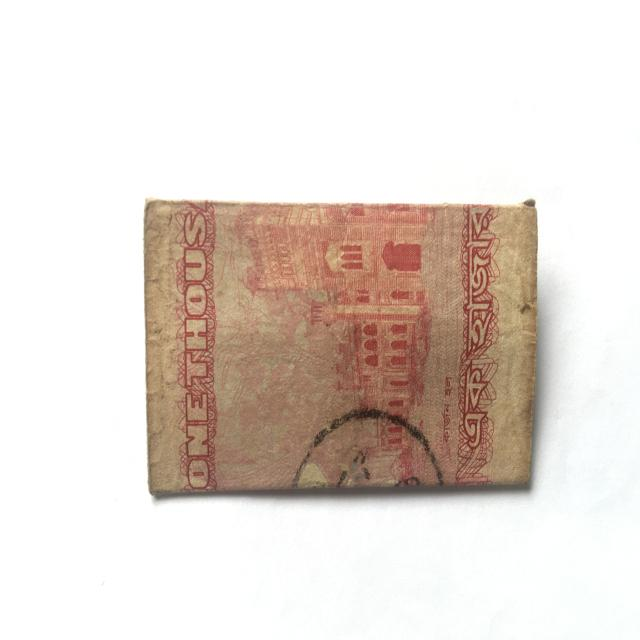Taka: (138, 190, 541, 500)
